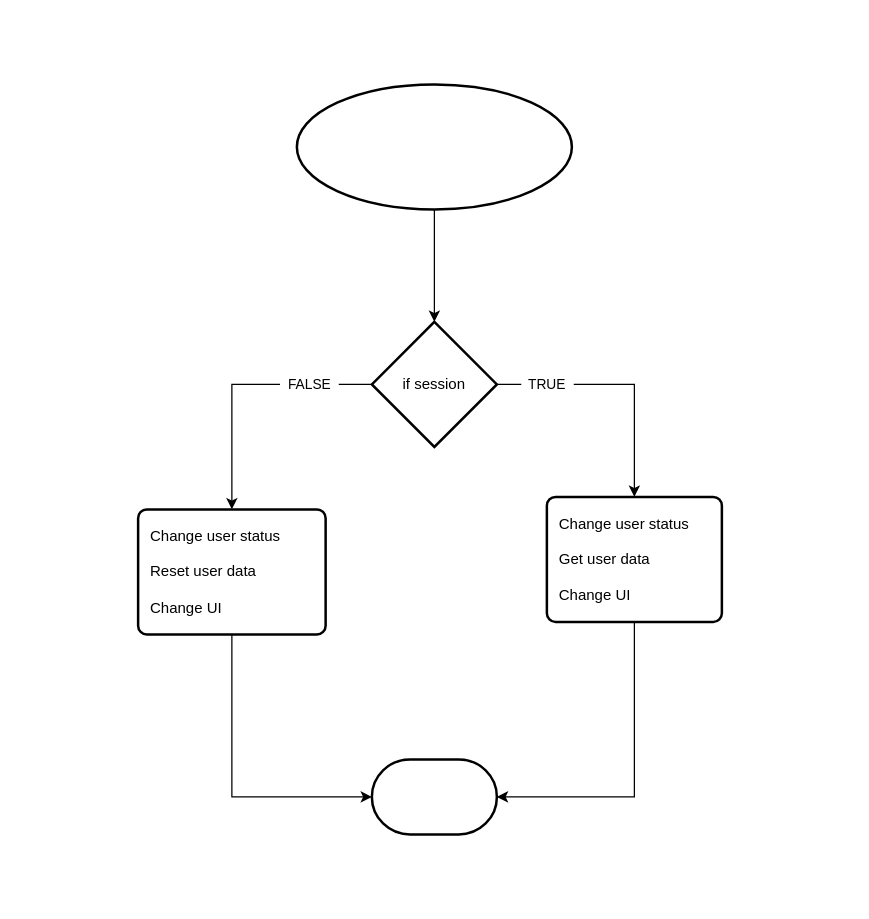
Some shapes in this 869 by 919 pixel diagram are drawn without their labels. Here are the shapes that lost their labels. From the top down, the centre of each, then its label:
At point (433, 146): "Start Navigate to / || Change user session".
At point (434, 796): "End".
